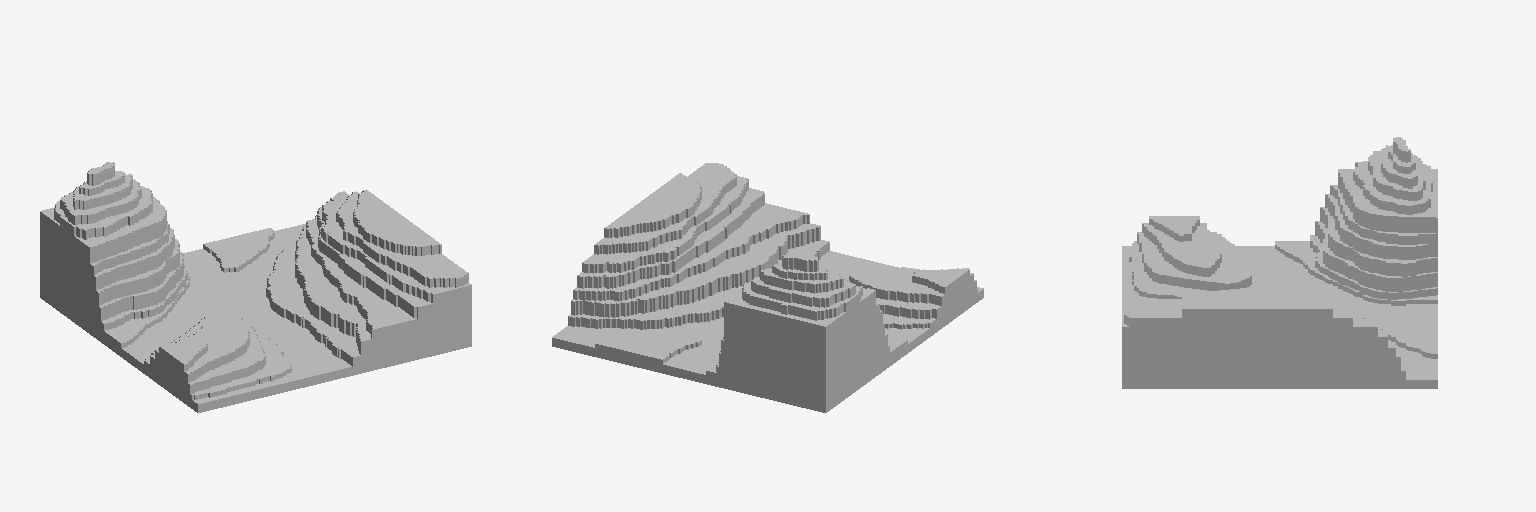
File: Main Island-7.obj
3 renders of one model, left to right at view 1: azimuth 30°, elevation 25°; view 2: azimuth 150°, elevation 25°; view 3: azimuth 270°, elevation 25°, orthographic.
Visible parts, largest first — view 1: Main Island-7; view 2: Main Island-7; view 3: Main Island-7.
Boxes of the visible parts, box(x1,y1,x2,y2) form: Main Island-7: box(40, 162, 471, 412); Main Island-7: box(552, 163, 983, 412); Main Island-7: box(1122, 137, 1437, 388).
Bounding box in the file's own units: 126 × 58 × 126.